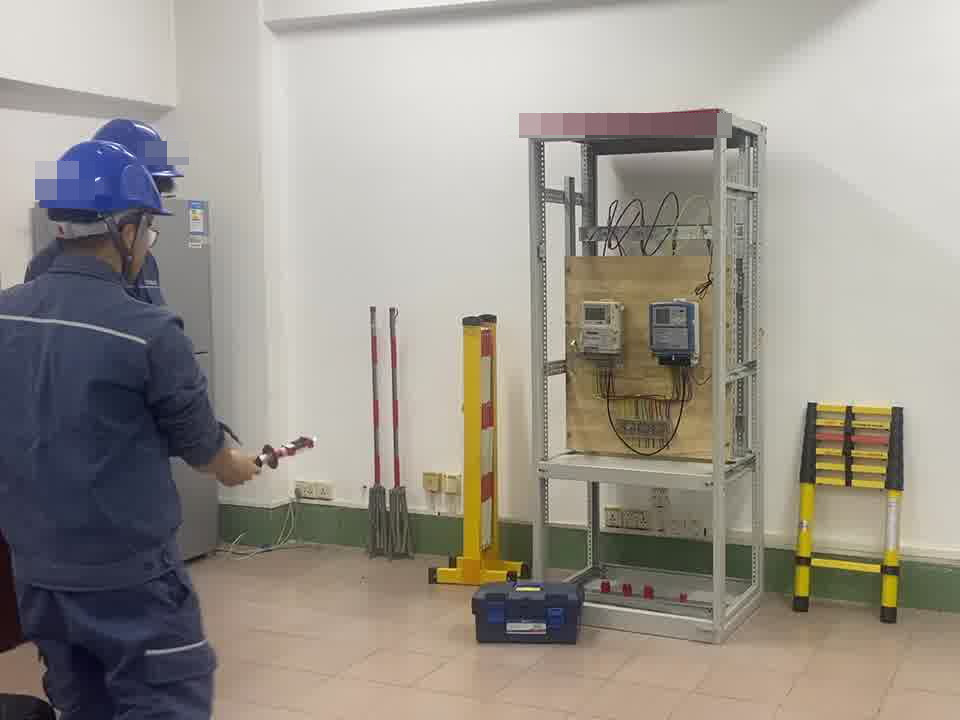downsuit: (9, 592, 217, 720)
halt: (28, 139, 174, 287), (92, 118, 184, 202)
hand: (213, 447, 263, 490)
inear: (105, 206, 146, 274)
person: (1, 138, 218, 720)
testrod: (252, 433, 318, 471)
upsuit: (1, 247, 225, 588)
wrongtop: (189, 419, 265, 490)
